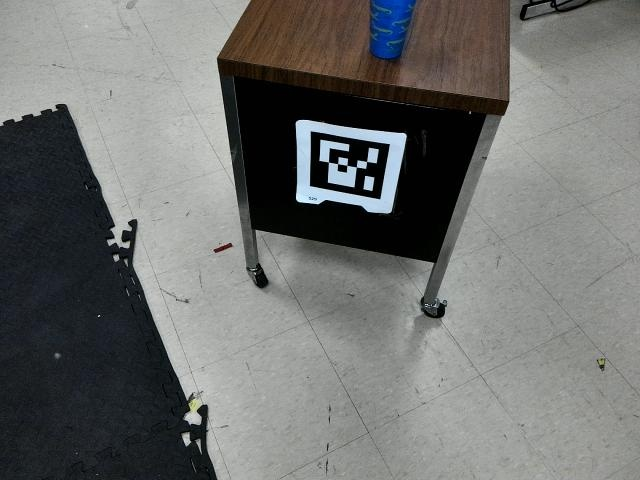water_cup: (364, 1, 424, 63)
